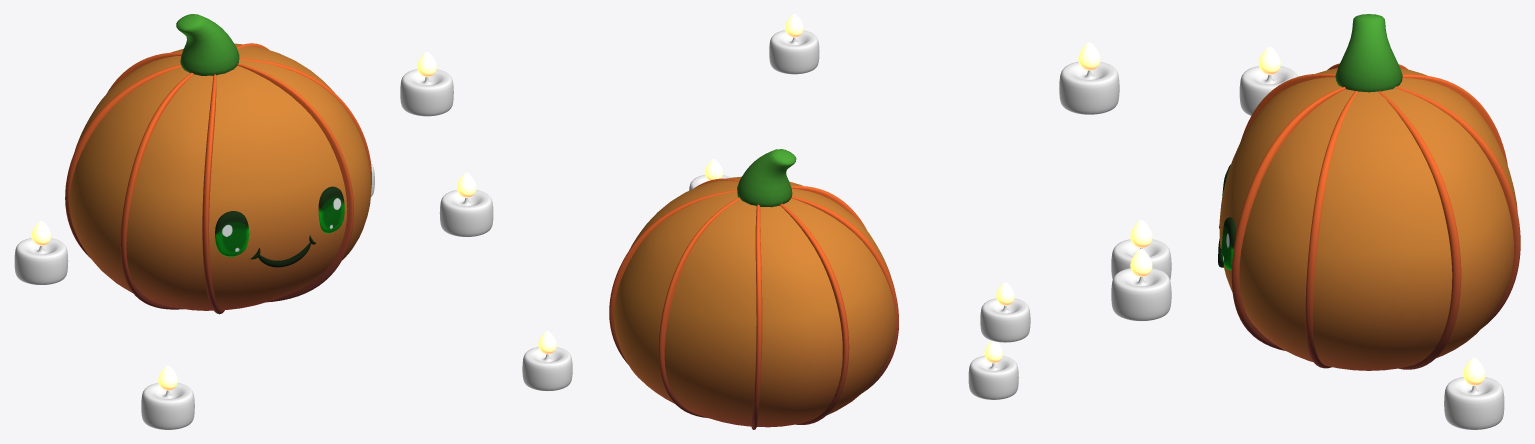
3 views of the same model, side by side, from view 1: azimuth 30°, elevation 25°; view 2: azimuth 150°, elevation 25°; view 3: azimuth 270°, elevation 25° (orthographic). The views are drawn at different scales.
Visible parts, largest first — view 1: body_11, curved_lines_15, top_part_12, candle5_5, candle4_4, candle2_2, candle1_1, eyes_13, mouth_14; view 2: body_11, curved_lines_15, top_part_12, candle2_2, candle4_4, candle3_3, candle5_5, candle1_1; view 3: body_11, curved_lines_15, top_part_12, candle1_1, candle4_4, candle3_3, candle2_2, candle5_5, eyes_13.
Part boxes in pixels (bbox=[...]): body_11: bbox=[69, 43, 371, 310]; curved_lines_15: bbox=[65, 43, 371, 314]; top_part_12: bbox=[176, 14, 239, 75]; candle5_5: bbox=[141, 365, 194, 429]; candle4_4: bbox=[400, 52, 453, 116]; candle2_2: bbox=[14, 220, 68, 284]; candle1_1: bbox=[439, 172, 493, 236]; eyes_13: bbox=[215, 186, 344, 256]; mouth_14: bbox=[250, 235, 315, 267]; body_11: bbox=[614, 176, 895, 427]; curved_lines_15: bbox=[609, 178, 898, 429]; top_part_12: bbox=[737, 149, 796, 207]; candle2_2: bbox=[980, 282, 1030, 342]; candle4_4: bbox=[769, 14, 819, 74]; candle3_3: bbox=[522, 331, 572, 391]; candle5_5: bbox=[968, 340, 1018, 399]; candle1_1: bbox=[689, 159, 730, 190]; body_11: bbox=[1219, 68, 1517, 370]; curved_lines_15: bbox=[1231, 63, 1520, 369]; top_part_12: bbox=[1335, 14, 1402, 92]; candle1_1: bbox=[1111, 249, 1171, 321]; candle4_4: bbox=[1059, 42, 1119, 114]; candle3_3: bbox=[1444, 357, 1504, 429]; candle2_2: bbox=[1239, 46, 1297, 115]; candle5_5: bbox=[1111, 220, 1171, 279]; eyes_13: bbox=[1221, 164, 1235, 270].
Size of the model in its own units: 3.26 by 2.3 by 2.61.
7 materials, 5 textured.
